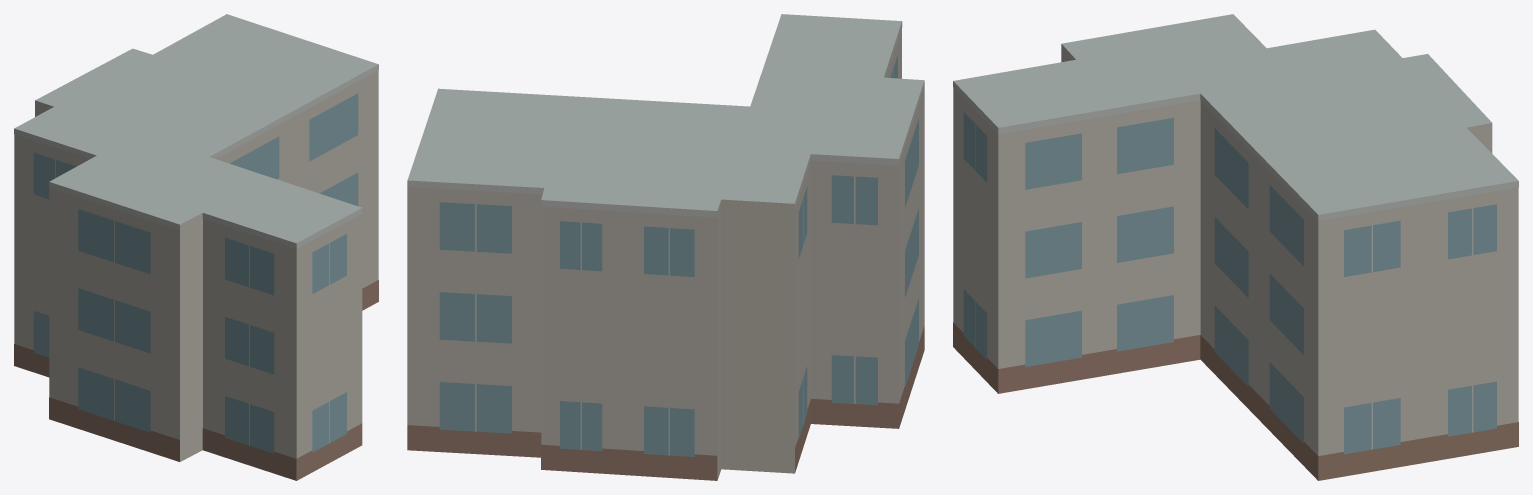
Rendered from survey-upis-32467050.glb.
3 views of the same model, side by side, from view 1: azimuth 30°, elevation 25°; view 2: azimuth 150°, elevation 25°; view 3: azimuth 270°, elevation 25° (orthographic). The views are drawn at different scales.
Parts seen in each view (by area): view 1: survey-upis-32467050.tmp; view 2: survey-upis-32467050.tmp; view 3: survey-upis-32467050.tmp.
Boxes of the visible parts, bbox=[...] form: survey-upis-32467050.tmp: bbox=[14, 14, 378, 480]; survey-upis-32467050.tmp: bbox=[407, 14, 924, 480]; survey-upis-32467050.tmp: bbox=[953, 14, 1518, 480].
Size of the model in its own units: 16.49 by 10.17 by 19.61.
